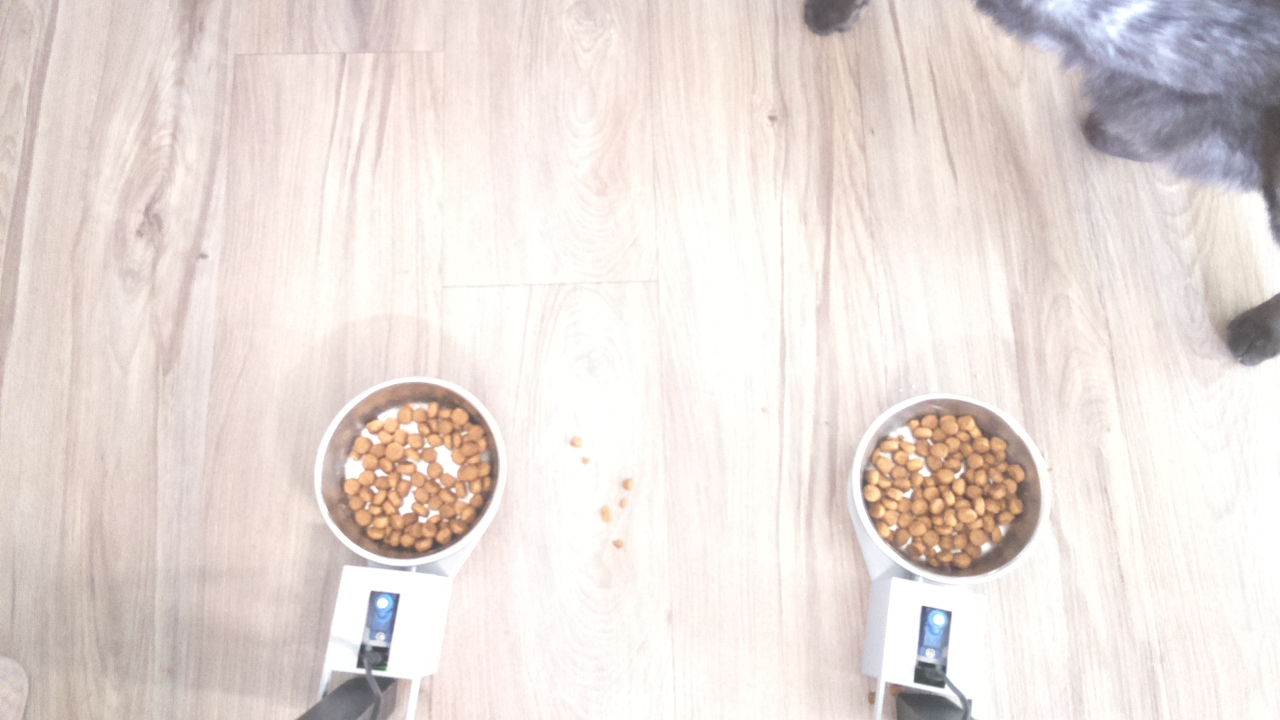open_bowl: (308, 373, 508, 568), (849, 391, 1051, 584)
